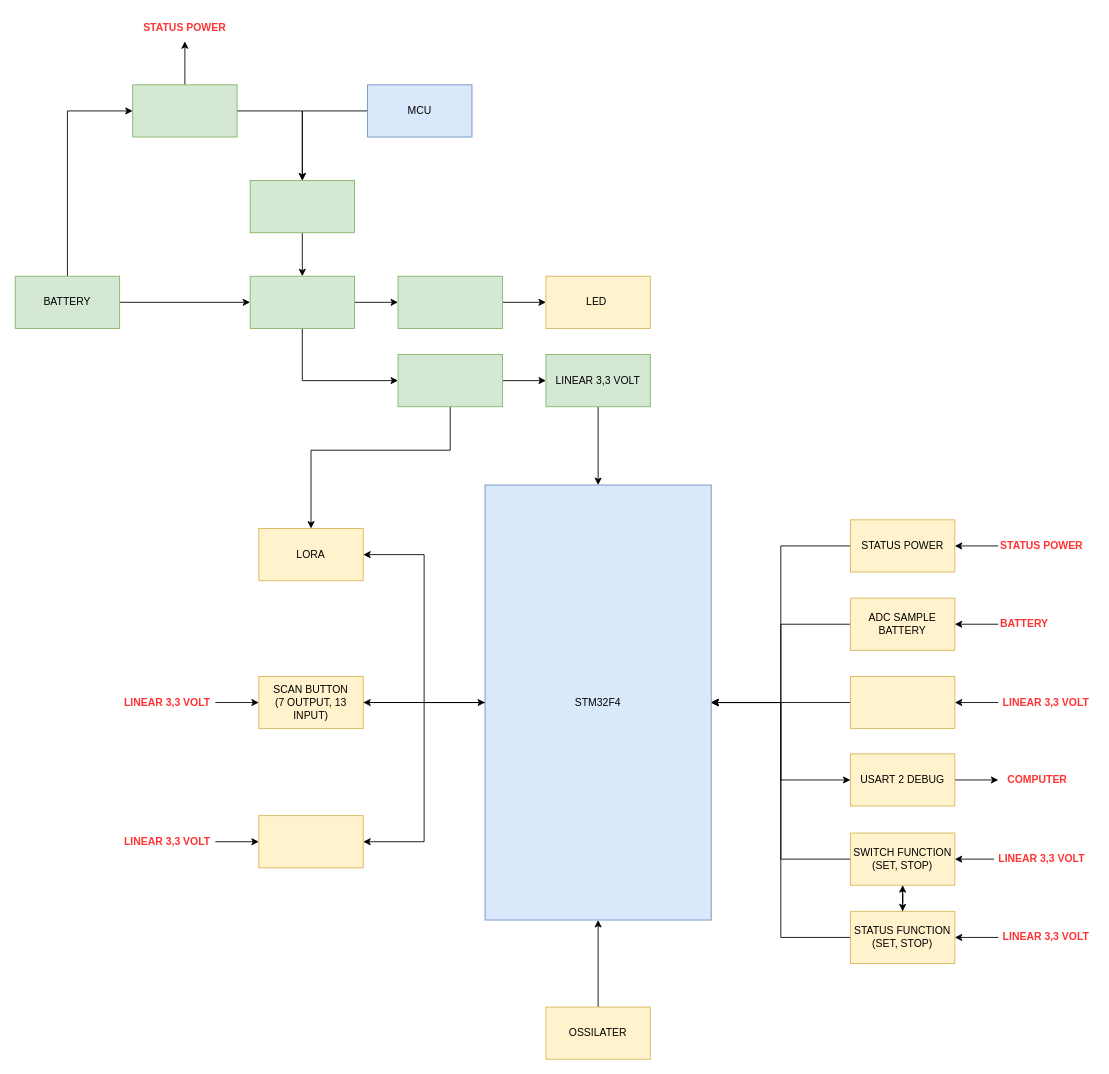
Some shapes in this 1109 by 1074 pixel diagram are drawn without their labels. Each missing label, with the centre of its shape:
7 INPUT (CHỌN CỤM XOAY): the point at 902,702
BATTERY MANAGEMENT SYSTEM: the point at 302,206
BOOST COVERTER 24 VOLT: the point at 449,301
BUCK CONVERTER 5 VOLT: the point at 449,380
MOSFET SWITCH: the point at 302,301
SPI SCAN 74HC595: the point at 310,841
SWITCH POWER FUNCTION: the point at 184,110
